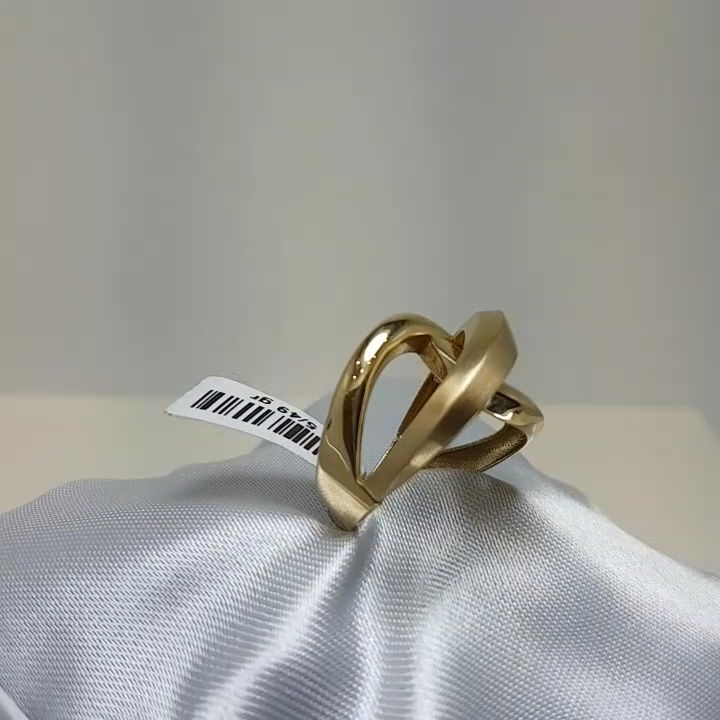Ring 3: (308, 296, 591, 541)
